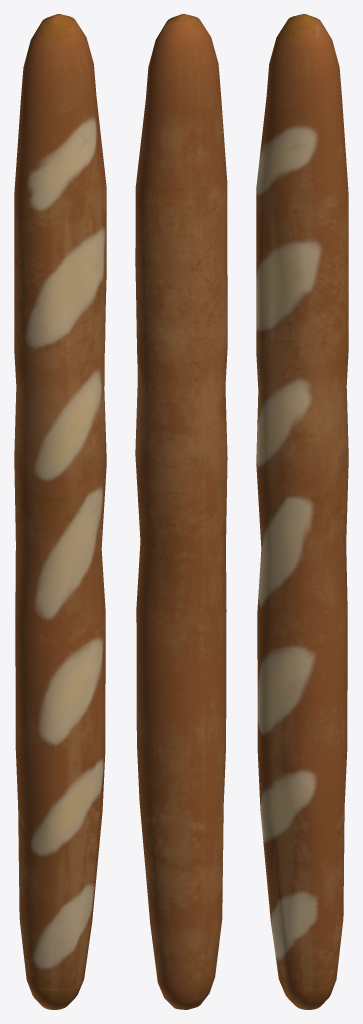
Rendered from baguette.fbx.
3 renders of one model, left to right at view 1: azimuth 30°, elevation 25°; view 2: azimuth 210°, elevation 25°; view 3: azimuth 330°, elevation 25°, orthographic.
Visible parts, largest first — view 1: Baguette; view 2: Baguette; view 3: Baguette.
Part boxes in pixels (x1,y1,x2,y2): Baguette: (14, 14, 106, 1009); Baguette: (135, 14, 227, 1009); Baguette: (256, 14, 348, 1009).
Bounding box in the file's own units: 11.74 × 134 × 11.2.
